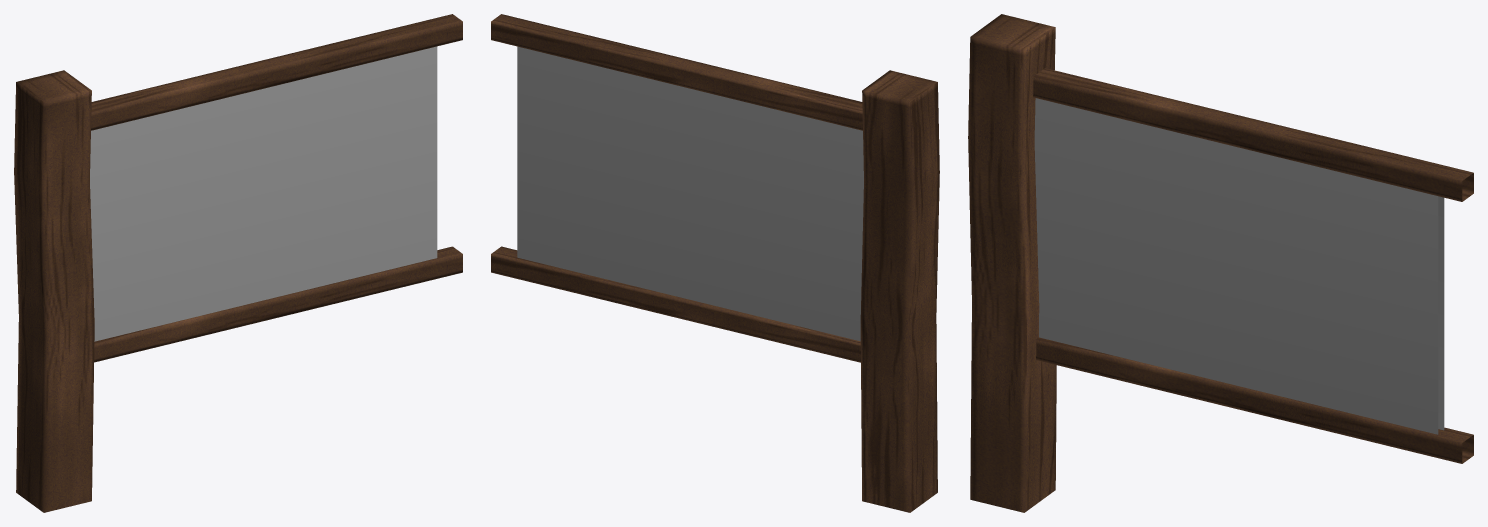
The model's file is Fence_Glass.fbx.
The picture shows the model from 3 angles, left to right: view 1: azimuth 30°, elevation 25°; view 2: azimuth 150°, elevation 25°; view 3: azimuth 330°, elevation 25°; orthographic projection. The views are drawn at different scales.
Visible parts, largest first — view 1: glass, saku_glass; view 2: glass, saku_glass; view 3: glass, saku_glass.
Boxes of the visible parts, x1,y1,x2,y2 form: glass: (90,46,437,341); saku_glass: (14,14,462,512); glass: (517,46,863,341); saku_glass: (491,14,939,512); glass: (1034,98,1444,434); saku_glass: (968,14,1473,512).
Bounding box in the file's own units: 0.0754 × 0.0689 × 0.00865.
Materials: 2 (1 with a texture image).
